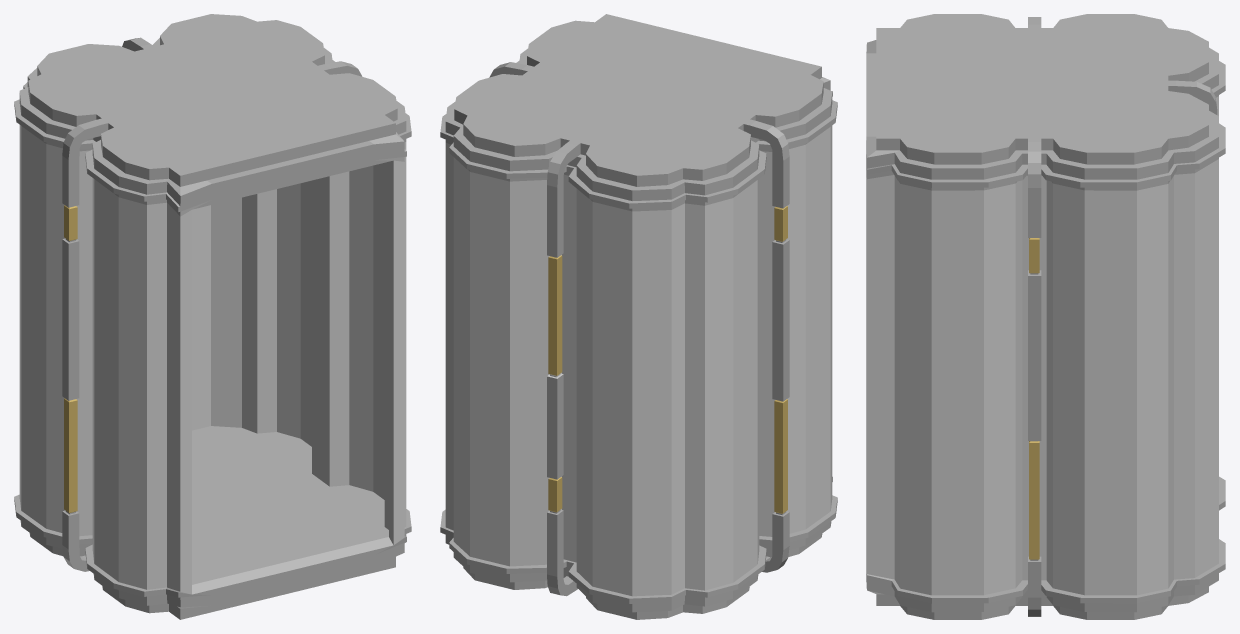
The model's file is ascenceur.fbx.
3 renders of one model, left to right at view 1: azimuth 30°, elevation 25°; view 2: azimuth 150°, elevation 25°; view 3: azimuth 270°, elevation 25°, orthographic. The views are drawn at different scales.
Visible parts, largest first — view 1: ascenceur; view 2: ascenceur; view 3: ascenceur.
Part boxes in pixels (x1,y1,x2,y2): ascenceur: (14, 14, 411, 619); ascenceur: (440, 14, 837, 619); ascenceur: (866, 14, 1225, 619).
Bounding box in the file's own units: 0.12 × 0.1721 × 0.12.
